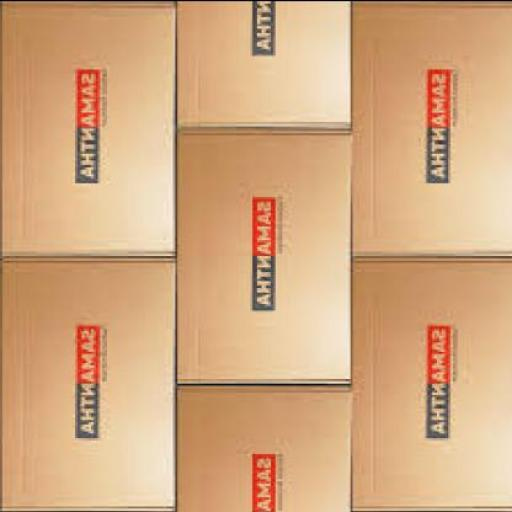cardboard: (175, 123, 348, 380), (1, 254, 173, 510), (0, 2, 171, 252), (347, 1, 511, 257), (348, 254, 510, 510), (173, 380, 350, 510), (173, 0, 350, 126)
